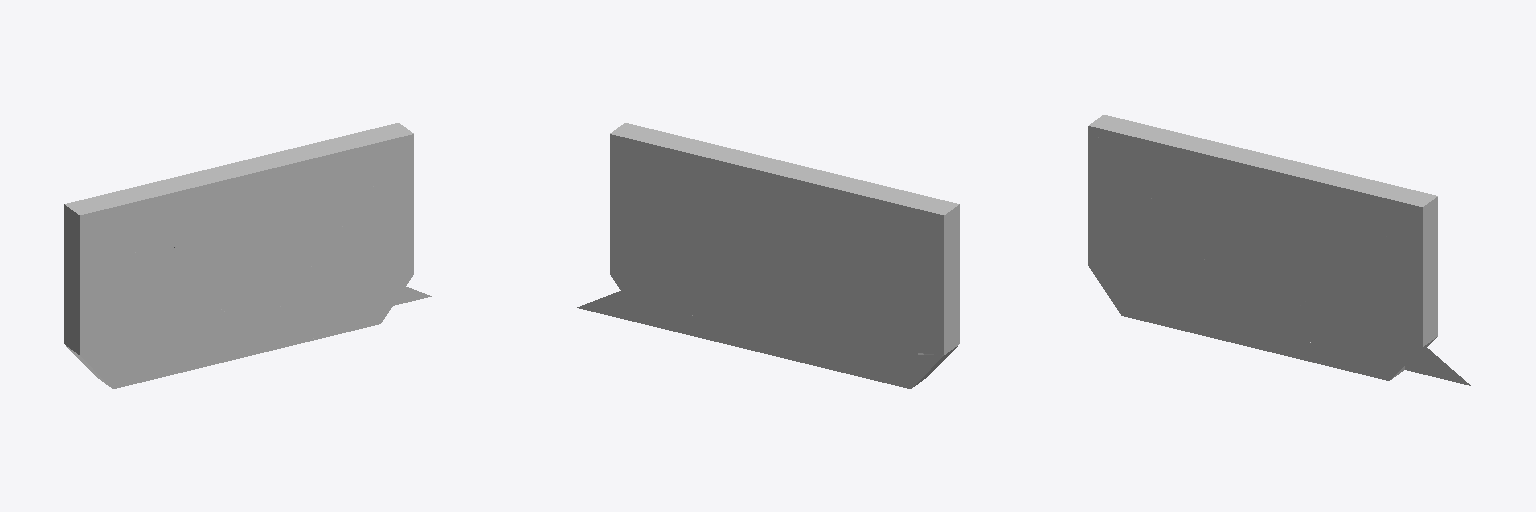
File: AZTEC-1.obj
3 views of the same model, side by side, from view 1: azimuth 30°, elevation 25°; view 2: azimuth 150°, elevation 25°; view 3: azimuth 330°, elevation 25° (orthographic).
Visible parts, largest first — view 1: G, 0; view 2: G, 0; view 3: 0, G.
Boxes of the visible parts, <box> form: G: <box>64,126,431,388</box>; 0: <box>64,123,413,388</box>; G: <box>577,125,959,388</box>; 0: <box>610,123,959,386</box>; 0: <box>1088,115,1437,380</box>; G: <box>1088,116,1470,385</box>.
Bounding box in the file's own units: 34.38 × 16.25 × 2.5.